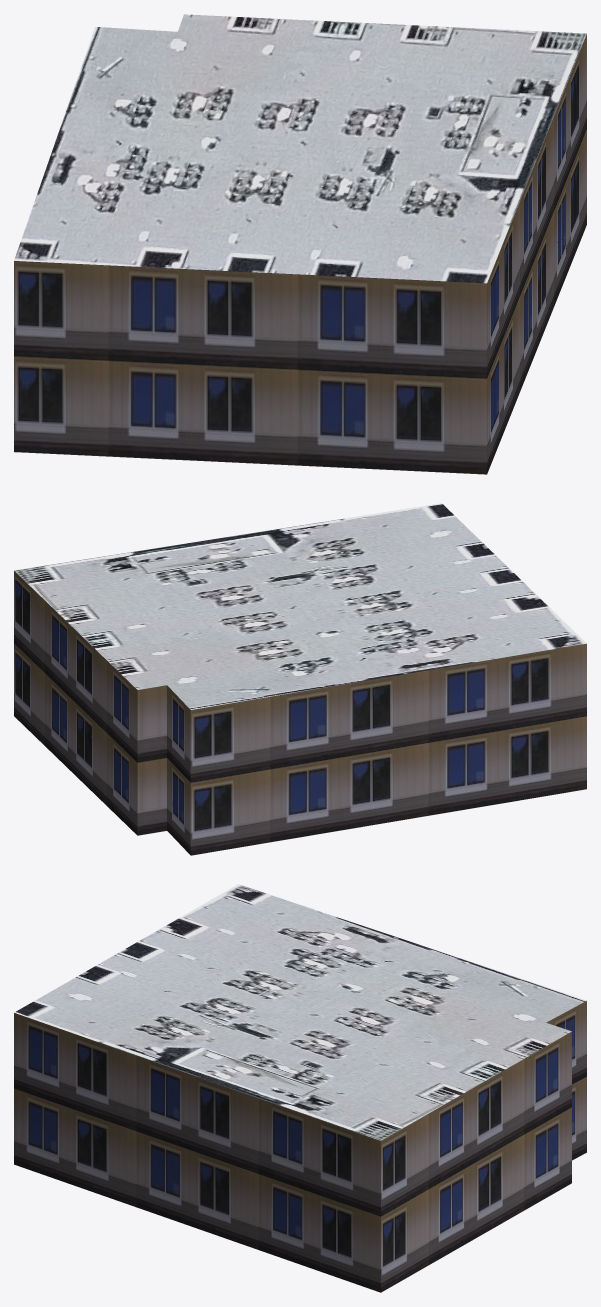
Rendered from ResTex__3174.fbx.
The picture shows the model from 3 angles, top to bottom: view 1: azimuth 30°, elevation 25°; view 2: azimuth 150°, elevation 25°; view 3: azimuth 270°, elevation 25°; orthographic projection. The views are drawn at different scales.
Parts seen in each view (by area): view 1: CityEngineMaterial_8_m, CityEngineMaterial_5_m; view 2: CityEngineMaterial_5_m, CityEngineMaterial_8_m; view 3: CityEngineMaterial_5_m, CityEngineMaterial_8_m.
Boxes of the visible parts, x1=… form: CityEngineMaterial_8_m: x1=14, y1=14, x2=586, y2=283; CityEngineMaterial_5_m: x1=14, y1=34, x2=586, y2=474; CityEngineMaterial_5_m: x1=14, y1=571, x2=586, y2=855; CityEngineMaterial_8_m: x1=14, y1=503, x2=586, y2=709; CityEngineMaterial_5_m: x1=14, y1=1001, x2=586, y2=1292; CityEngineMaterial_8_m: x1=14, y1=884, x2=586, y2=1140.
Size of the model in its own units: 21.76 by 6 by 20.52.
2 materials, 2 textured.
